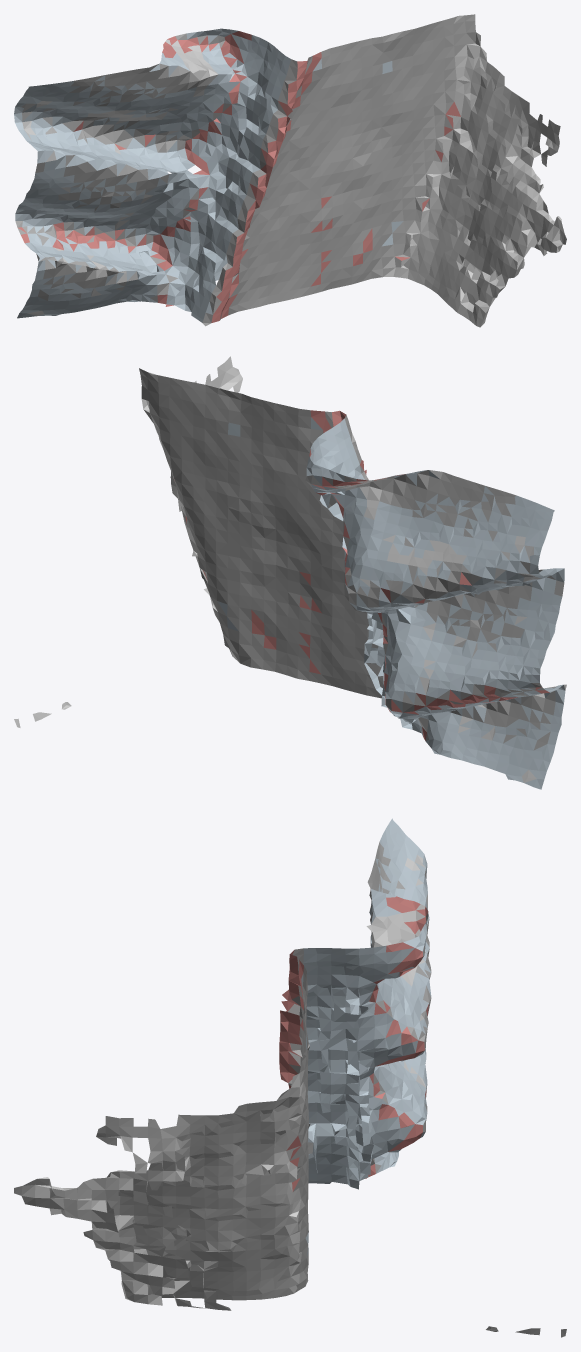
Rendered from B173-날개__lt_dynnow_ALS_s0__after.glb.
3 views of the same model, one above another, from view 1: azimuth 30°, elevation 25°; view 2: azimuth 150°, elevation 25°; view 3: azimuth 270°, elevation 25° (orthographic). The views are drawn at different scales.
Bounding box in the file's own units: 15.98 × 9 × 15.69.
